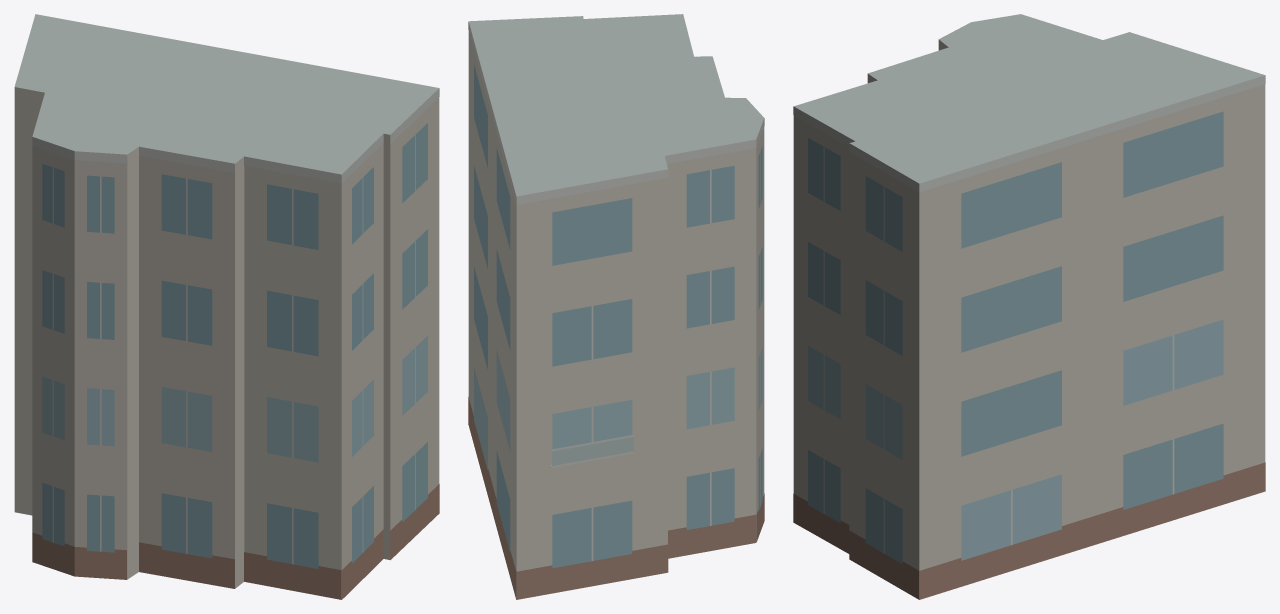
File: survey-upis-32613360.glb
3 views of the same model, side by side, from view 1: azimuth 30°, elevation 25°; view 2: azimuth 150°, elevation 25°; view 3: azimuth 270°, elevation 25° (orthographic). The views are drawn at different scales.
Visible parts, largest first — view 1: survey-upis-32613360.tmp; view 2: survey-upis-32613360.tmp; view 3: survey-upis-32613360.tmp.
Part boxes in pixels (<box>): survey-upis-32613360.tmp: <box>14,14,439,599</box>; survey-upis-32613360.tmp: <box>468,14,764,599</box>; survey-upis-32613360.tmp: <box>793,14,1265,599</box>.
Bounding box in the file's own units: 10.17 × 11.62 × 11.95.
